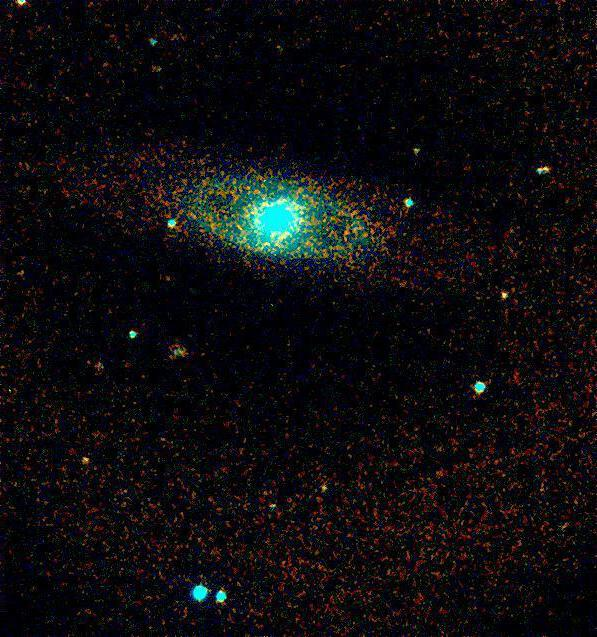star: (493, 279, 523, 309)
